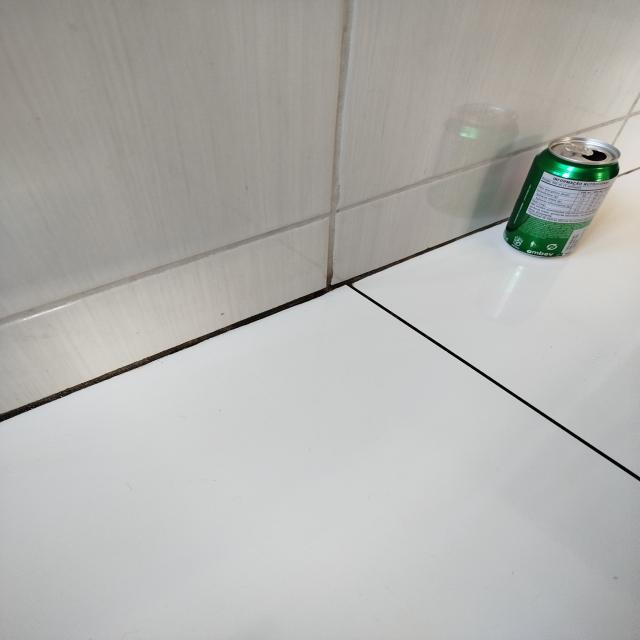Guarana: (500, 136, 622, 258)
